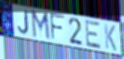2: (69, 17, 84, 48)
E: (85, 19, 102, 50)
F: (49, 13, 66, 43)
J: (17, 9, 30, 36)
K: (104, 23, 118, 53)
M: (30, 9, 51, 42)
